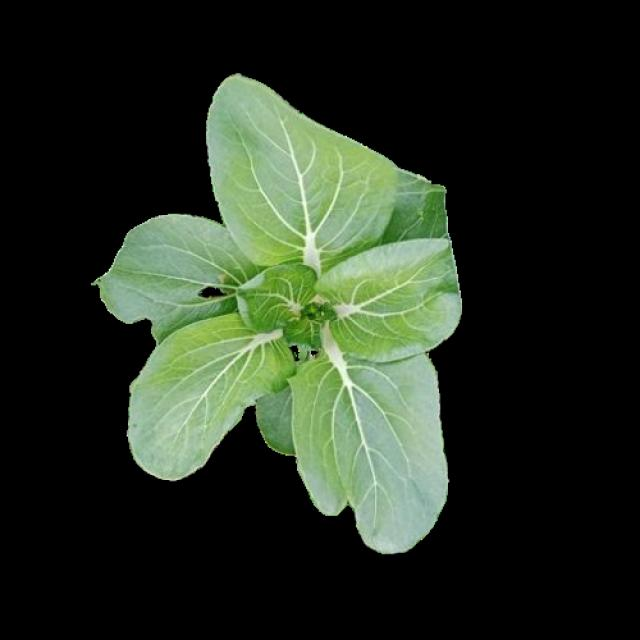mature: (96, 76, 457, 554)
unhealthy: (336, 166, 461, 358), (92, 214, 252, 329)
